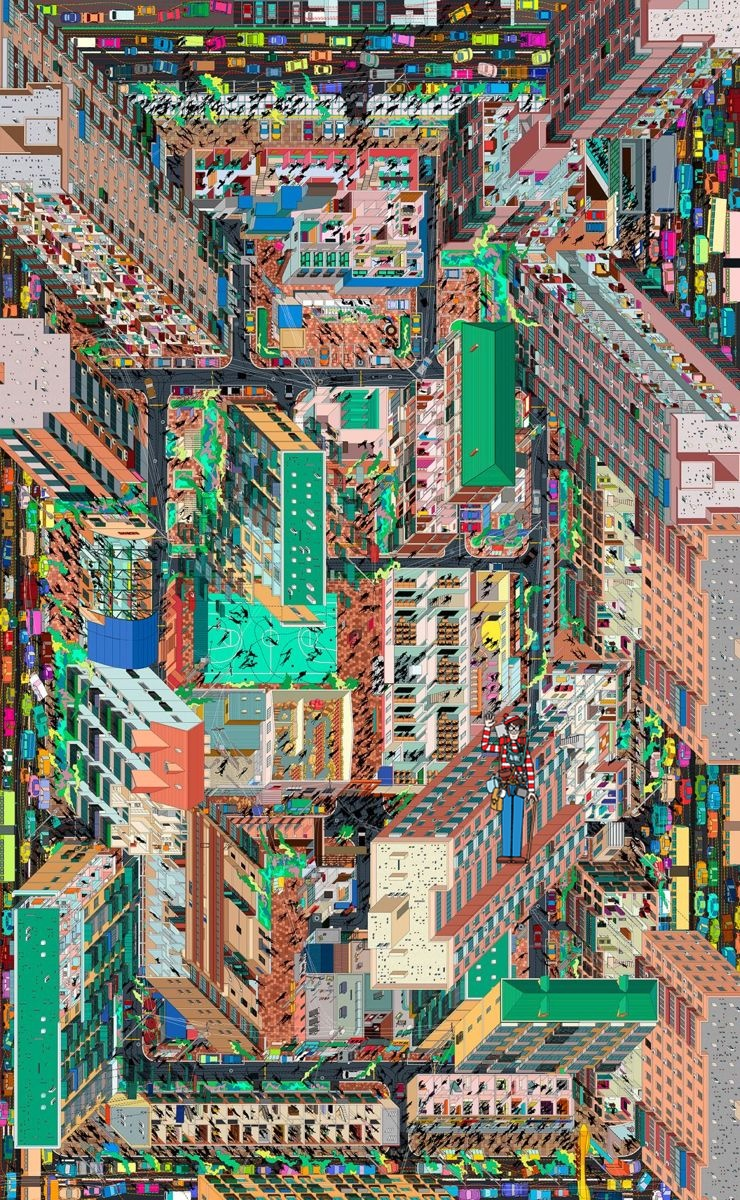waldo: (481, 712, 539, 865)
